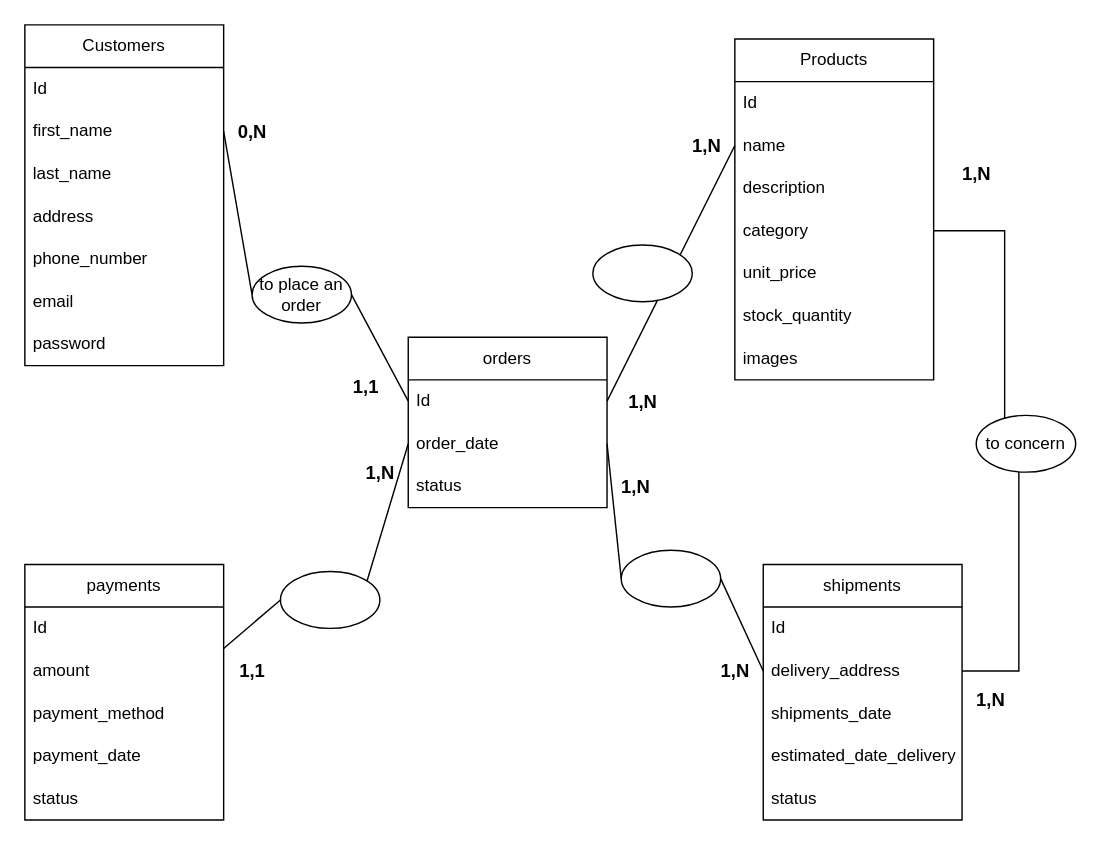
Some shapes in this 1102 by 845 pixel diagram are drawn without their labels. The centre of each missing label's shape, as x and y in pixels:
"can lead" goes at (x=670, y=578).
"to associate" goes at (x=329, y=599).
"to include" goes at (x=641, y=273).
